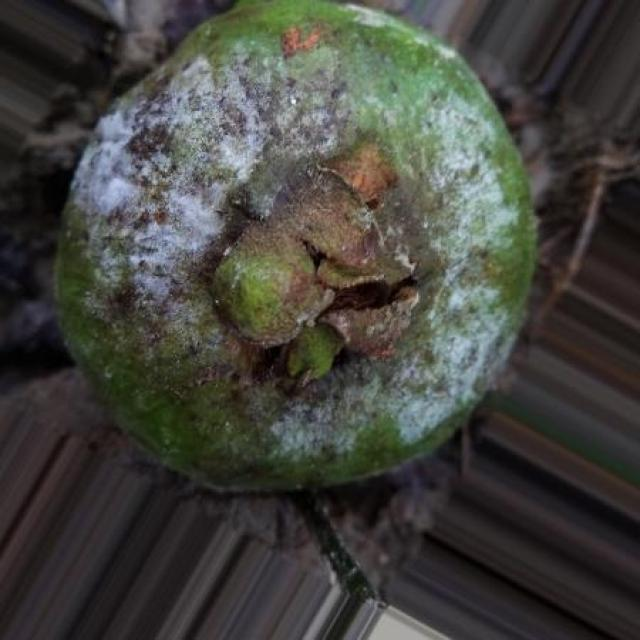Phytopthora: (56, 0, 535, 487)
